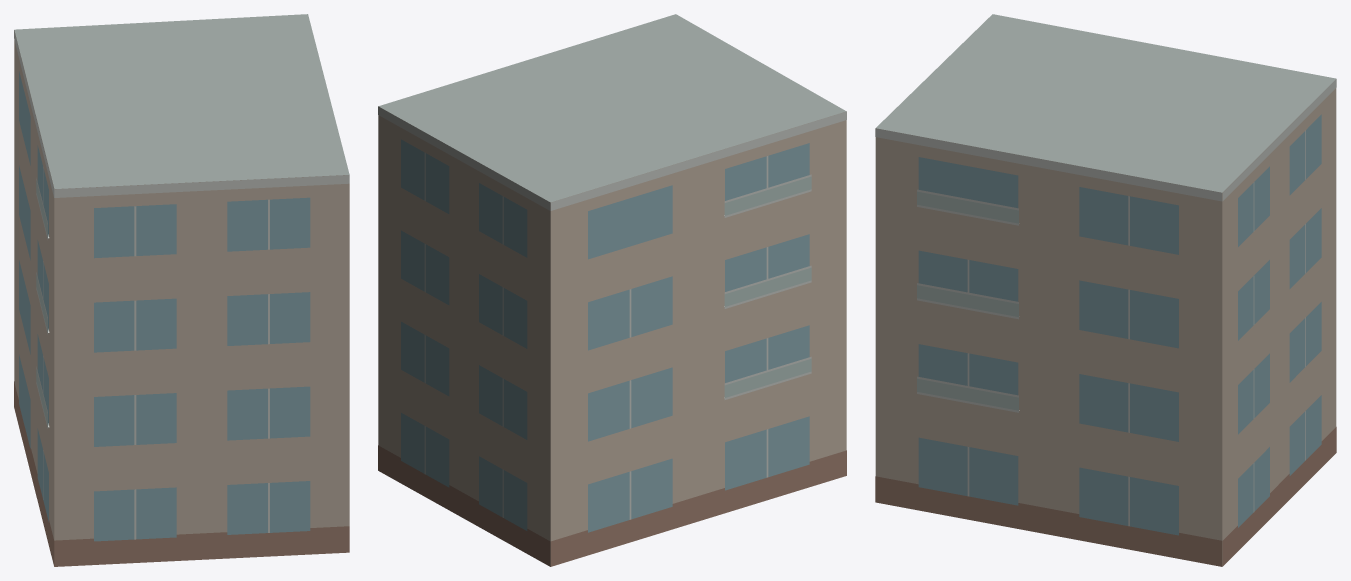
The model's file is survey-upis-32524972.glb.
3 renders of one model, left to right at view 1: azimuth 30°, elevation 25°; view 2: azimuth 150°, elevation 25°; view 3: azimuth 270°, elevation 25°, orthographic. The views are drawn at different scales.
Parts seen in each view (by area): view 1: survey-upis-32524972.tmp; view 2: survey-upis-32524972.tmp; view 3: survey-upis-32524972.tmp.
Part boxes in pixels (<box>): survey-upis-32524972.tmp: <box>14,14,349,566</box>; survey-upis-32524972.tmp: <box>378,14,846,566</box>; survey-upis-32524972.tmp: <box>875,14,1336,566</box>.
Bounding box in the file's own units: 10.56 × 10.3 × 11.51.
